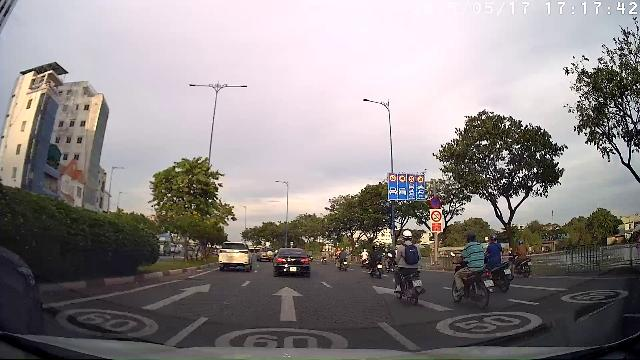127-toc-do-toi-da-50: (408, 175, 416, 183), (418, 175, 424, 183)
127-toc-do-toi-da-60: (389, 174, 397, 182), (398, 175, 406, 183)
130-cam-dung-va-do-xe: (431, 196, 441, 208)
